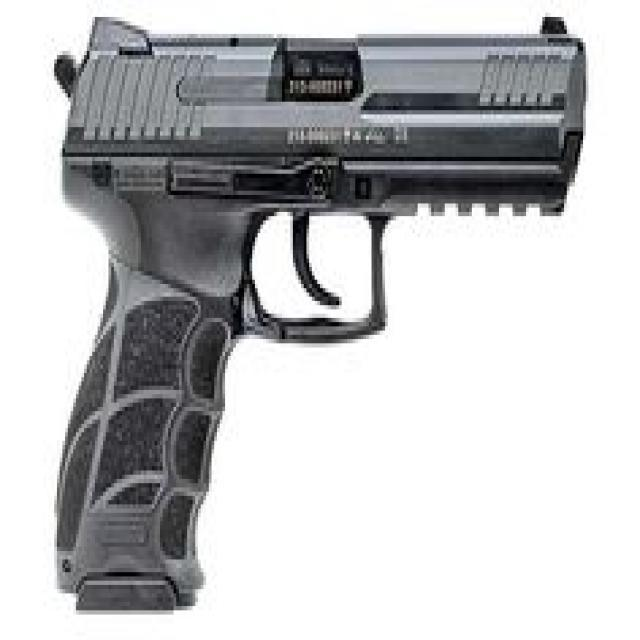semi automatic: (10, 2, 598, 626)
